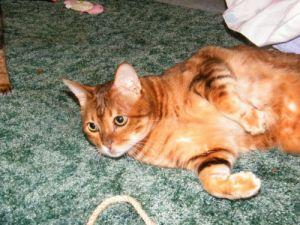bengal: (59, 63, 161, 164)
